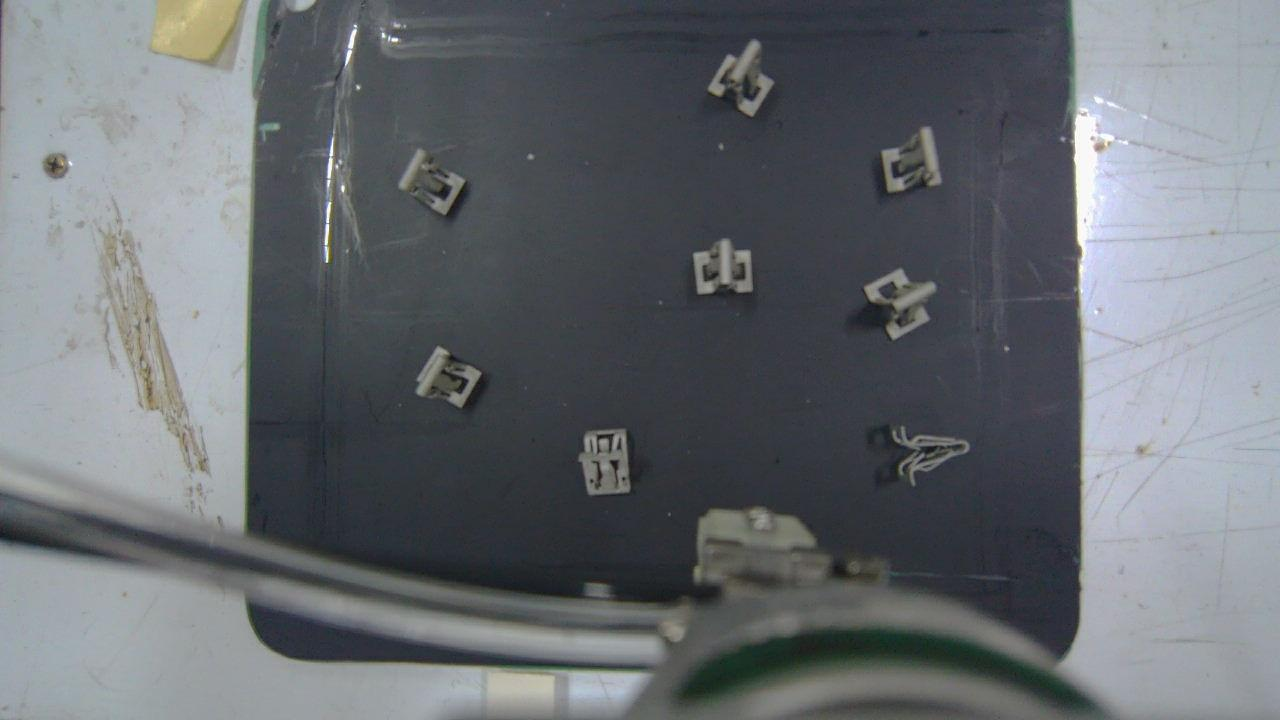ng: (415, 344, 479, 410), (400, 152, 466, 215), (894, 427, 969, 482), (882, 128, 941, 191), (581, 427, 632, 494)
pass: (865, 266, 937, 340), (712, 40, 774, 116), (695, 241, 754, 296)
